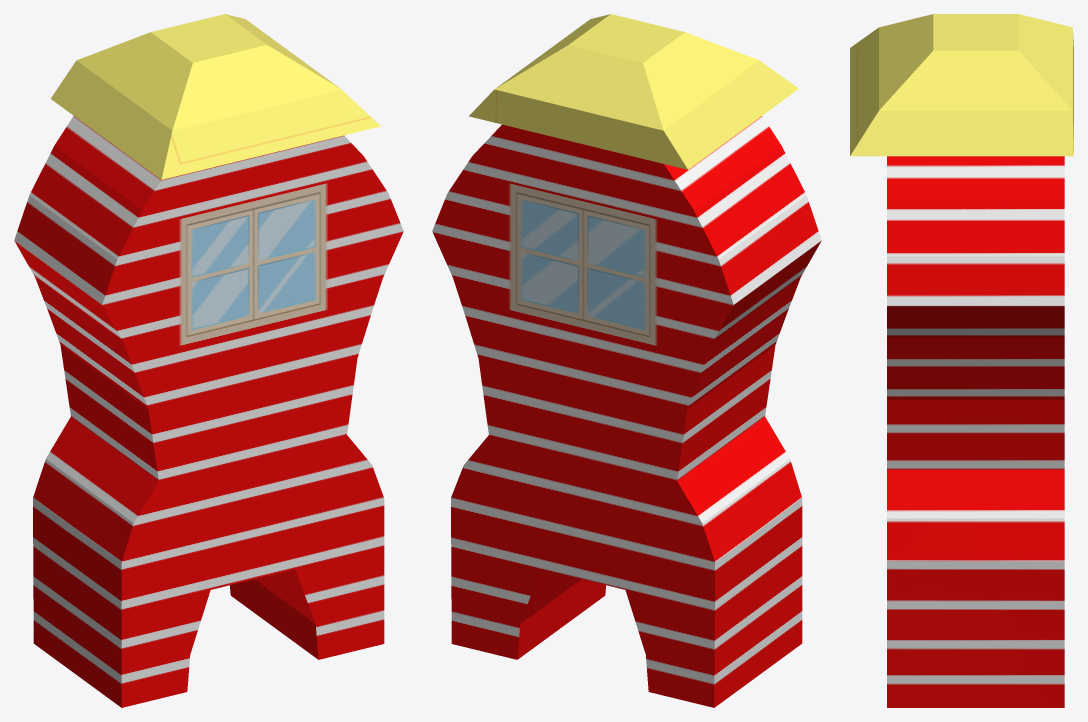
The model's file is windmill_Base_v3.fbx.
The picture shows the model from 3 angles, left to right: view 1: azimuth 30°, elevation 25°; view 2: azimuth 150°, elevation 25°; view 3: azimuth 270°, elevation 25°; orthographic projection.
Parts seen in each view (by area): view 1: Base; view 2: Base; view 3: Base.
Boxes of the visible parts, bbox=[...] form: Base: bbox=[14, 14, 403, 707]; Base: bbox=[432, 14, 821, 707]; Base: bbox=[850, 14, 1073, 707].
Size of the model in its own units: 3.96 by 7.59 by 2.52.
